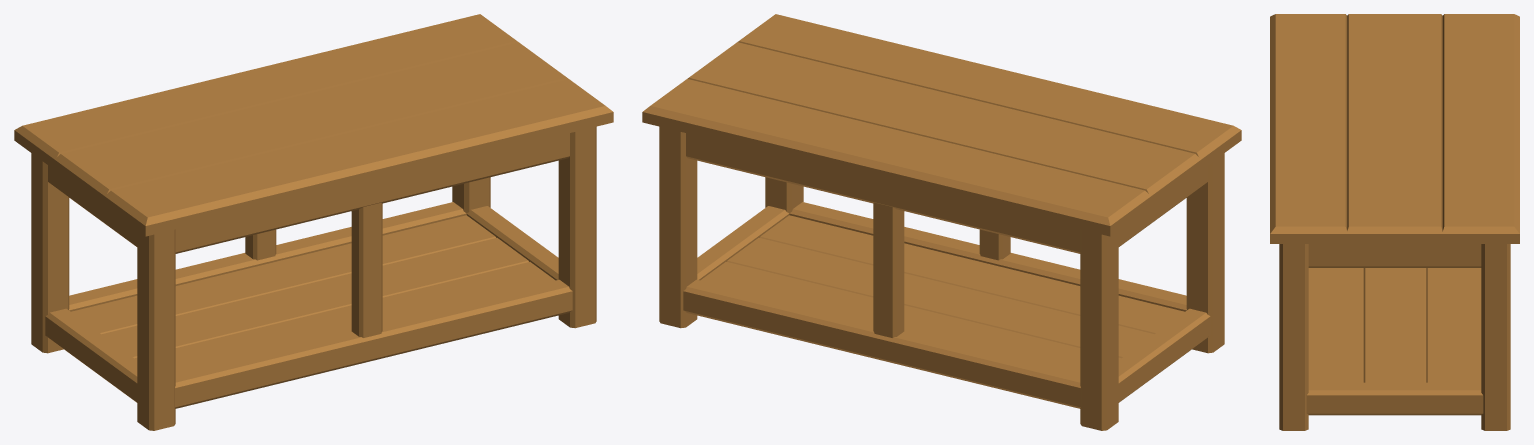
Rendered from SM_Furniture_PrepCounter_Honey_02.fbx.
3 renders of one model, left to right at view 1: azimuth 30°, elevation 25°; view 2: azimuth 150°, elevation 25°; view 3: azimuth 270°, elevation 25°, orthographic. The views are drawn at different scales.
Parts seen in each view (by area): view 1: SM_Furniture_PrepCounter_Honey_02; view 2: SM_Furniture_PrepCounter_Honey_02; view 3: SM_Furniture_PrepCounter_Honey_02.
Boxes of the visible parts, box(x1,y1,x2,y2) form: SM_Furniture_PrepCounter_Honey_02: box(14, 14, 613, 430); SM_Furniture_PrepCounter_Honey_02: box(642, 14, 1241, 430); SM_Furniture_PrepCounter_Honey_02: box(1270, 14, 1519, 430).
Bounding box in the file's own units: 1.4 × 0.62 × 0.68.
Materials: 1 (1 with a texture image).
